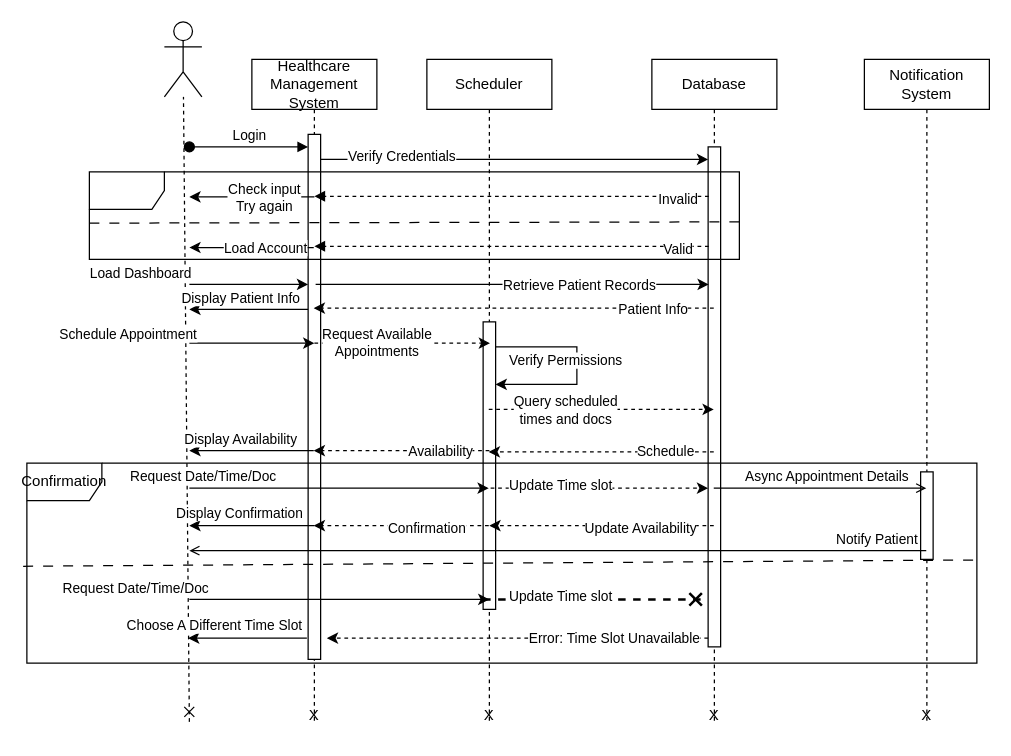
The diagram is 1011 pixels wide and 756 high, and some of its shapes have lost their labels. Each missing label, with the box of its shape:
Authentication: (88, 171, 739, 259)
Patient: (163, 21, 202, 97)
